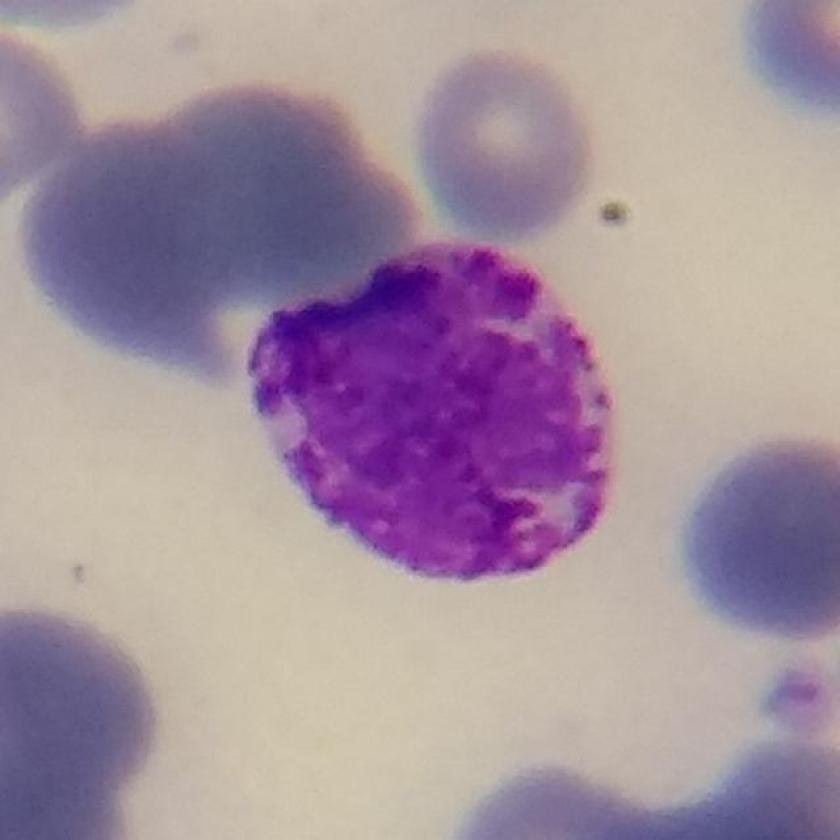basophil: (239, 223, 643, 597)
